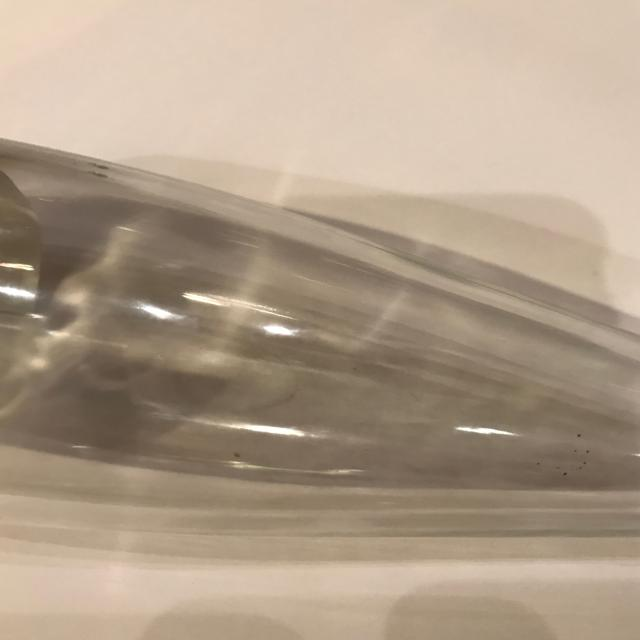glass: (0, 109, 640, 520)
